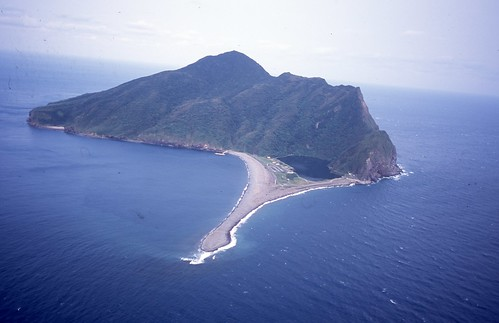turtleIslandTop: (22, 43, 428, 259)
